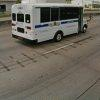Bus: (9, 3, 90, 42)
